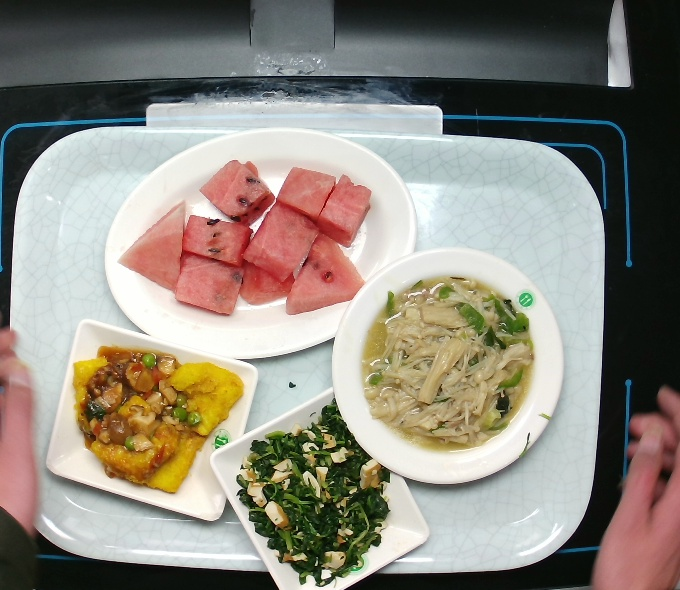wcq-CuiPiDouFu: (71, 345, 244, 495)
wcq-JinZhenGu: (359, 272, 536, 454)
wcq-MaLanTouChaoDouGan: (236, 399, 393, 585)
wcq-XiGua: (115, 153, 375, 318)
